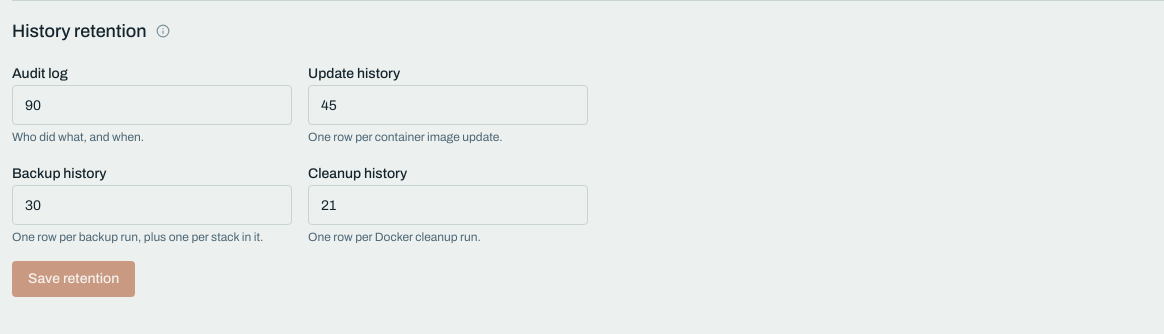
Test: HistoryRetentionSection — a cleared field is empty, not 0 (agent-os-qags.4) › a cleared field blocks Save even when another field has a valid edit
Step 1. Replace the text in the number field labelled "Audit log" with "120" → (152, 105), box x1=12 y1=85 x2=292 y2=125
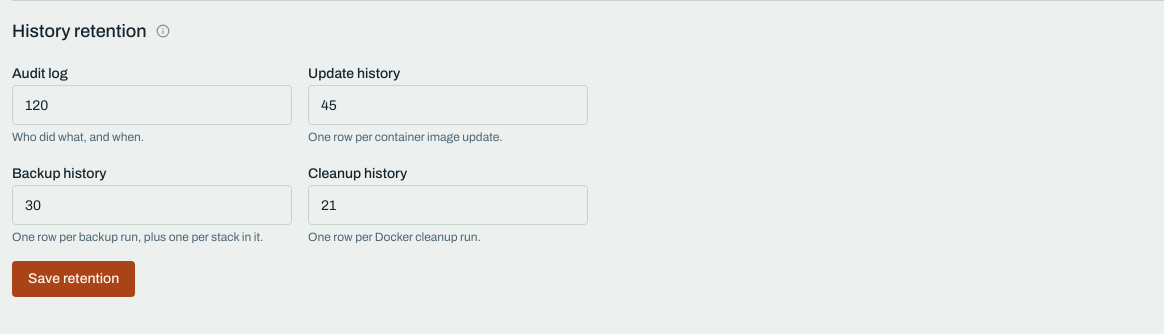
Step 2. Clear the number field labelled "Update history" → (448, 105), box x1=308 y1=85 x2=588 y2=125
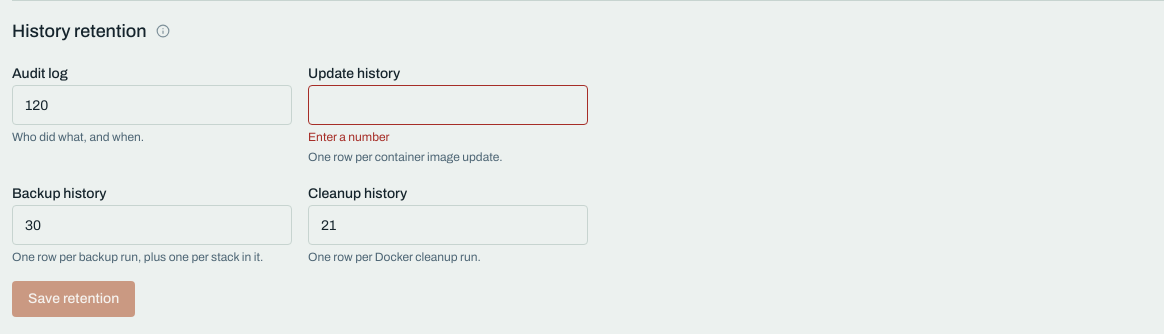
Expected: the button "Save retention" is disabled, x1=12 y1=281 x2=135 y2=317
